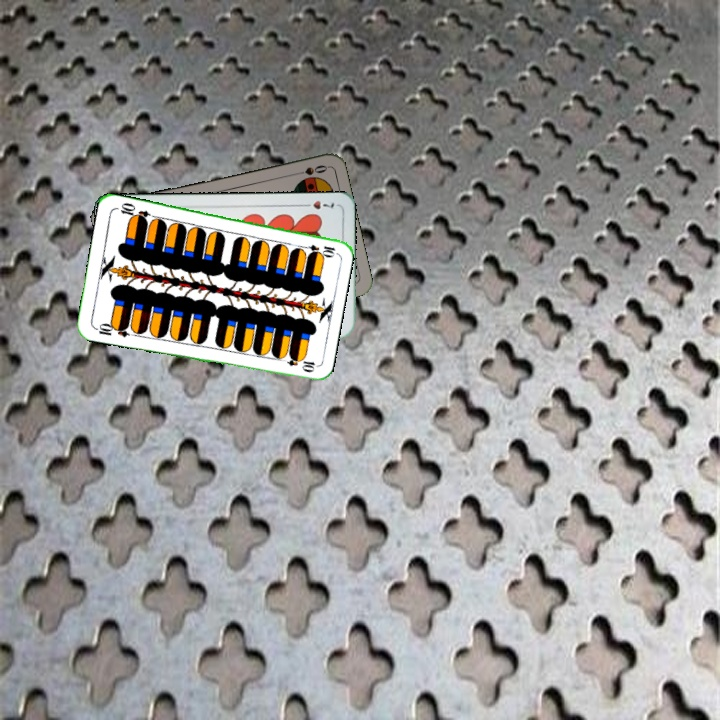E10: (91, 319, 131, 340), (297, 240, 338, 257)
H7: (298, 197, 337, 212)
SO: (289, 161, 330, 178)
